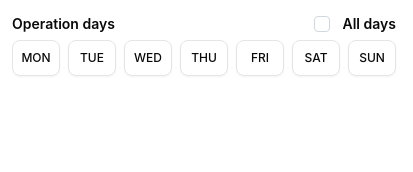
OperationDaysField › disables day toggles while All days is checked
What coordinates should you click on to do the following:
click the checkbox named "All days"
I would click on:
 (322, 24)
Its box is [314,16,330,32].
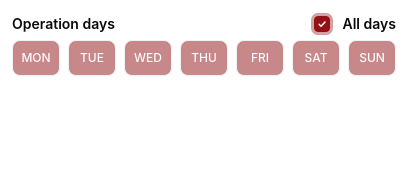
Now the button "MON" is disabled, box [12,40,60,76]
Now the button "TUE" is disabled, box [68,40,116,76]
Now the button "WED" is disabled, box [124,40,172,76]
